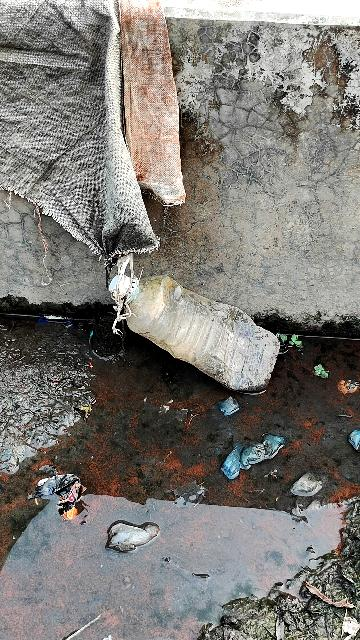bottle: (101, 266, 290, 400)
